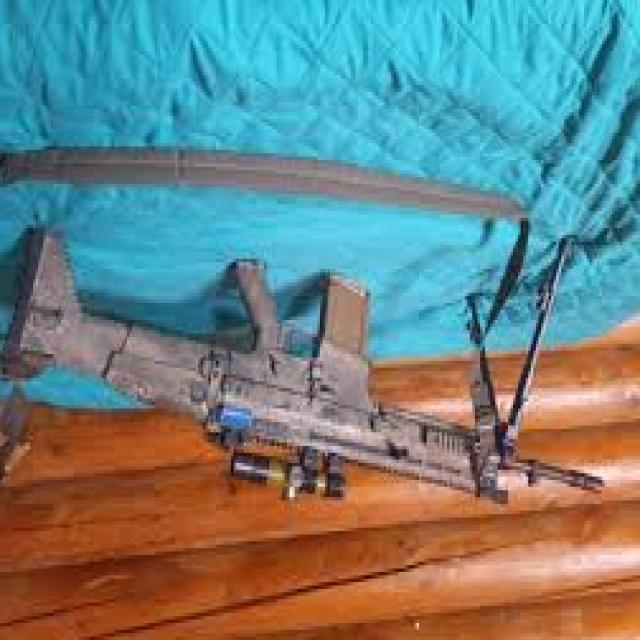Gun: (5, 194, 640, 548)
